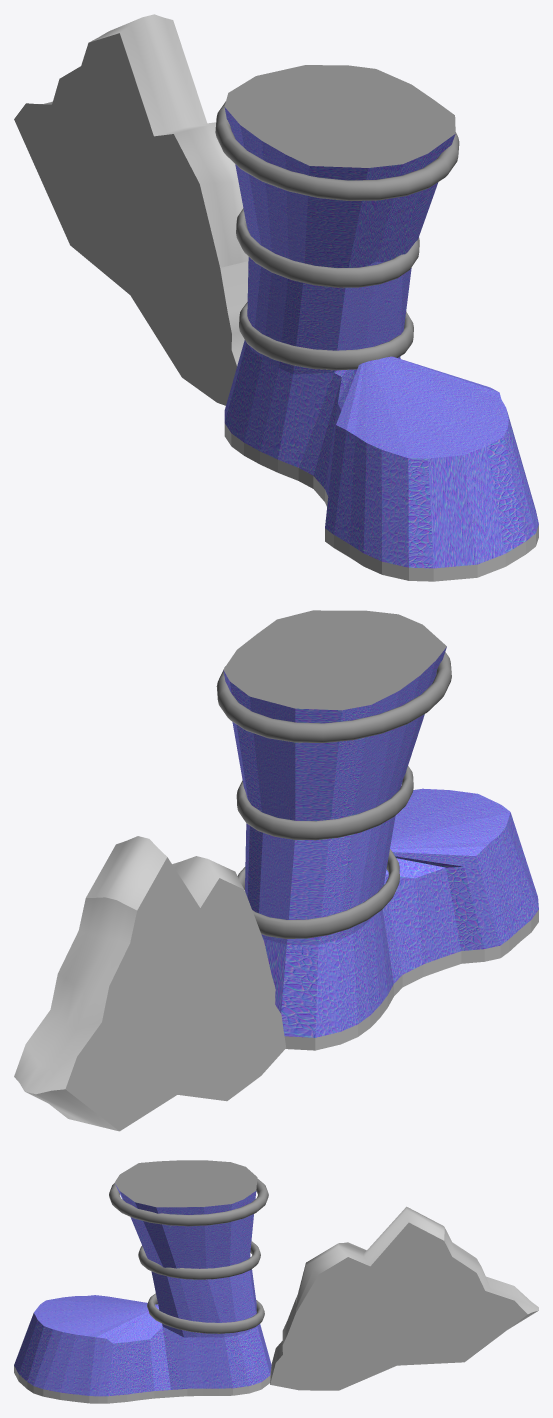
The model's file is pas 1.FBX.
3 renders of one model, top to bottom at view 1: azimuth 30°, elevation 25°; view 2: azimuth 150°, elevation 25°; view 3: azimuth 270°, elevation 25°, orthographic. The views are drawn at different scales.
Visible parts, largest first — view 1: pata, Box001, top, Torus003, bottom; view 2: pata, Box001, top, Torus003, bottom; view 3: pata, Box001, top, Torus003, bottom.
Part boxes in pixels (x1=…): pata: x1=224, y1=107, x2=538, y2=568; Box001: x1=14, y1=14, x2=248, y2=405; top: x1=224, y1=65, x2=455, y2=167; Torus003: x1=215, y1=101, x2=459, y2=370; bottom: x1=224, y1=423, x2=538, y2=581; pata: x1=223, y1=647, x2=538, y2=1037; Box001: x1=14, y1=836, x2=286, y2=1131; top: x1=223, y1=610, x2=446, y2=710; Torus003: x1=216, y1=652, x2=451, y2=938; bottom: x1=284, y1=910, x2=538, y2=1050; pata: x1=14, y1=1184, x2=271, y2=1396; Box001: x1=270, y1=1206, x2=538, y2=1390; top: x1=114, y1=1160, x2=257, y2=1207; Torus003: x1=109, y1=1178, x2=268, y2=1333; bottom: x1=14, y1=1366, x2=271, y2=1403.
Size of the model in its own units: 65.74 by 111 by 266.
